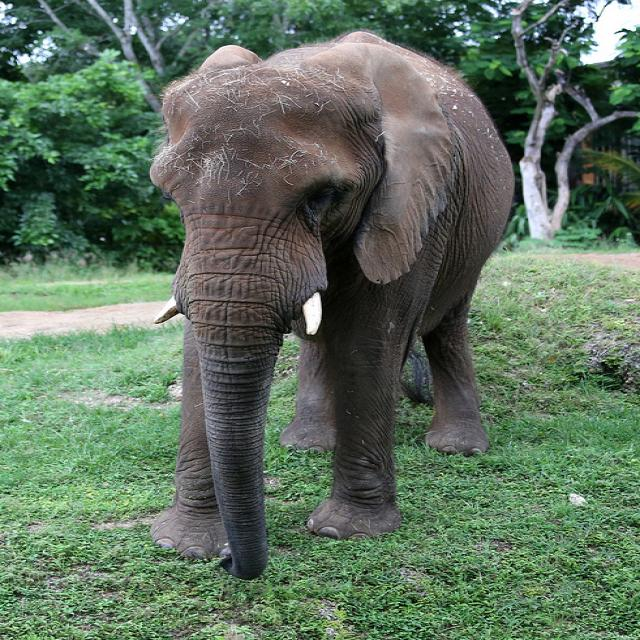Elephant: (147, 28, 515, 580)
